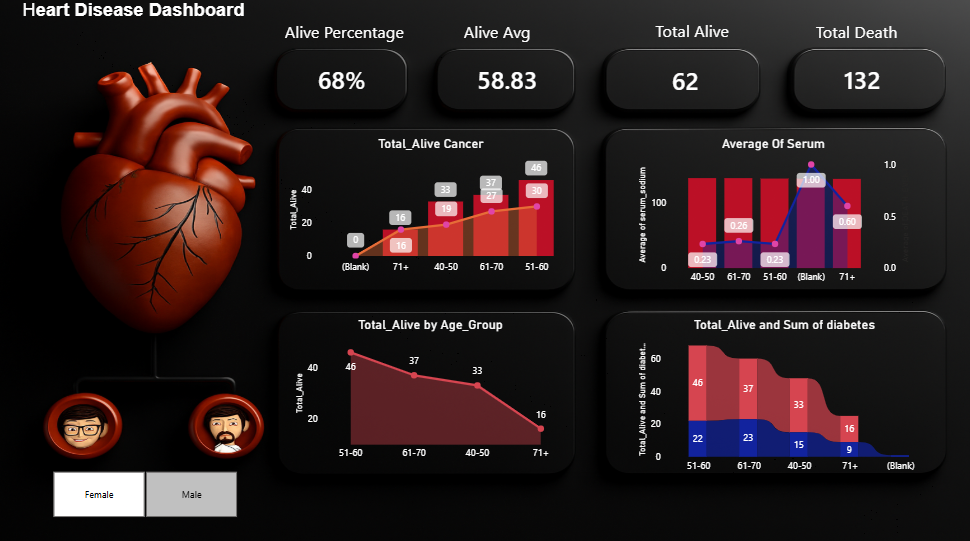

The page's visual inventory and layout, read from the dashboard file:
{"tool":"powerbi","page":{"name":"Page 1","canvas":[1280,720],"ordinal":0},"visuals":[{"type":"textbox","box":[11.8,0,327.3,56.3],"z":0},{"type":"cardVisual","fields":{"Data":["heart_Disease_clinical_records_.Alive_age"]},"box":[584.8,70.5,166,77.9],"z":1000},{"type":"cardVisual","fields":{"Data":["heart_Disease_clinical_records_.Total_Alive"]},"box":[1066.8,70.5,132.2,77.9],"z":2000},{"type":"cardVisual","fields":{"Data":["heart_Disease_clinical_records_.Total_Death"]},"box":[821.4,74.9,161.6,70.5],"z":3000},{"type":"lineClusteredColumnComboChart","title":"Total_Alive Cancer","fields":{"Category":["heart_Disease_clinical_records_.Age_Group"],"Y":["heart_Disease_clinical_records_.Total_Alive"],"Y2":["Sum(heart_Disease_clinical_records_.cancer)"]},"box":[377.1,184.3,382.1,189.4],"z":4000},{"type":"lineClusteredColumnComboChart","title":"Average Of Serum","fields":{"Category":["heart_Disease_clinical_records_.Age_Group"],"Y":["Avg(heart_Disease_clinical_records_.serum_sodium)"],"Y2":["Avg(heart_Disease_clinical_records_.DEATH_EVENT)"]},"box":[833.6,184.3,365.2,202.9],"z":5000},{"type":"lineChart","fields":{"Category":["heart_Disease_clinical_records_.Age_Group"],"Y":["heart_Disease_clinical_records_.Total_Alive"]},"box":[385.5,421,365.2,196.1],"z":6000},{"type":"ribbonChart","title":"Total_Alive and Sum of diabetes","fields":{"Category":["heart_Disease_clinical_records_.Age_Group"],"Y":["heart_Disease_clinical_records_.Total_Alive","Sum(heart_Disease_clinical_records_.diabetes)"]},"box":[833.6,421,394,213.1],"z":7000},{"type":"slicer","fields":{"Values":["heart_Disease_clinical_records_.Gender"]},"box":[47,615.7,292.4,74.9],"z":8000},{"type":"cardVisual","fields":{"Data":["heart_Disease_clinical_records_.Alive_Prc"]},"box":[385.5,71,133.6,74.4],"z":9000},{"type":"textbox","box":[371.8,28.8,169.8,41.1],"z":10000},{"type":"textbox","box":[821.8,27.9,180.6,42.9],"z":10001},{"type":"textbox","box":[606.6,28.8,150.2,41.1],"z":10002},{"type":"textbox","box":[1067.3,28.8,175.2,41.1],"z":10003}]}

Visuals, with their boxes in screenshot pixels (x1, y1, x2, y2), scaled from the page's 1280x720 canvas onto the 970x541 screenshot:
textbox: 9:0:257:42
cardVisual - heart_Disease_clinical_records_.Alive_age: 443:53:569:112
cardVisual - heart_Disease_clinical_records_.Total_Alive: 808:53:909:112
cardVisual - heart_Disease_clinical_records_.Total_Death: 622:56:745:109
"Total_Alive Cancer" lineClusteredColumnComboChart: 286:138:575:281
"Average Of Serum" lineClusteredColumnComboChart: 632:138:908:291
lineChart - heart_Disease_clinical_records_.Age_Group x heart_Disease_clinical_records_.Total_Alive: 292:316:569:464
"Total_Alive and Sum of diabetes" ribbonChart: 632:316:930:476
slicer - heart_Disease_clinical_records_.Gender: 36:463:257:519
cardVisual - heart_Disease_clinical_records_.Alive_Prc: 292:53:393:109
textbox: 282:22:410:53
textbox: 623:21:760:53
textbox: 460:22:574:53
textbox: 809:22:942:53
